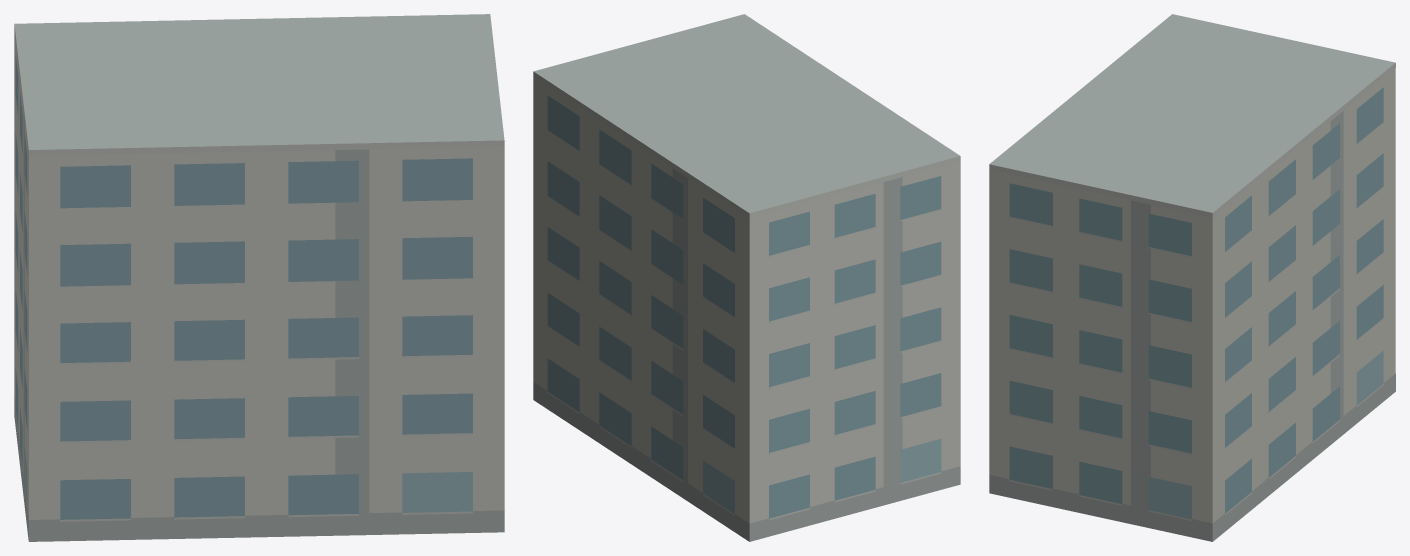
File: residential-ccfb274b-bc2b-4b28-8b17-6d8735fffc28.glb
The picture shows the model from 3 angles, left to right: view 1: azimuth 30°, elevation 25°; view 2: azimuth 150°, elevation 25°; view 3: azimuth 270°, elevation 25°; orthographic projection. The views are drawn at different scales.
Parts seen in each view (by area): view 1: residential-ccfb274b-bc2b-4b28-8b17-6d8735fffc28.tmp; view 2: residential-ccfb274b-bc2b-4b28-8b17-6d8735fffc28.tmp; view 3: residential-ccfb274b-bc2b-4b28-8b17-6d8735fffc28.tmp.
Part boxes in pixels (x1,y1,x2,y2): residential-ccfb274b-bc2b-4b28-8b17-6d8735fffc28.tmp: (14,14,504,541); residential-ccfb274b-bc2b-4b28-8b17-6d8735fffc28.tmp: (533,14,960,541); residential-ccfb274b-bc2b-4b28-8b17-6d8735fffc28.tmp: (989,14,1395,541).
Size of the model in its own units: 19.78 by 15.25 by 17.09.
